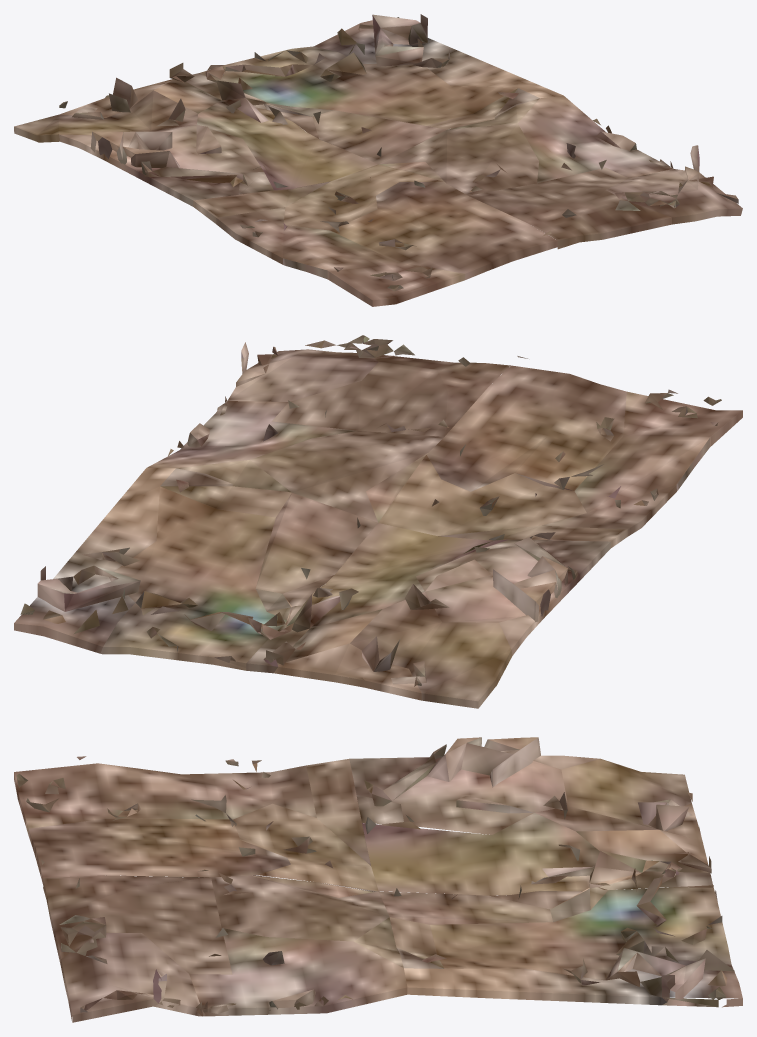
3 views of the same model, one above another, from view 1: azimuth 30°, elevation 25°; view 2: azimuth 150°, elevation 25°; view 3: azimuth 270°, elevation 25° (orthographic). The views are drawn at different scales.
Visible parts, largest first — view 1: Mesh_0; view 2: Mesh_0; view 3: Mesh_0.
Boxes of the visible parts, x1=… form: Mesh_0: x1=14, y1=14, x2=742, y2=306; Mesh_0: x1=14, y1=335, x2=742, y2=708; Mesh_0: x1=14, y1=737, x2=742, y2=1022.
Bounding box in the file's own units: 532 × 73.84 × 659.
Materials: 1 (1 with a texture image).
